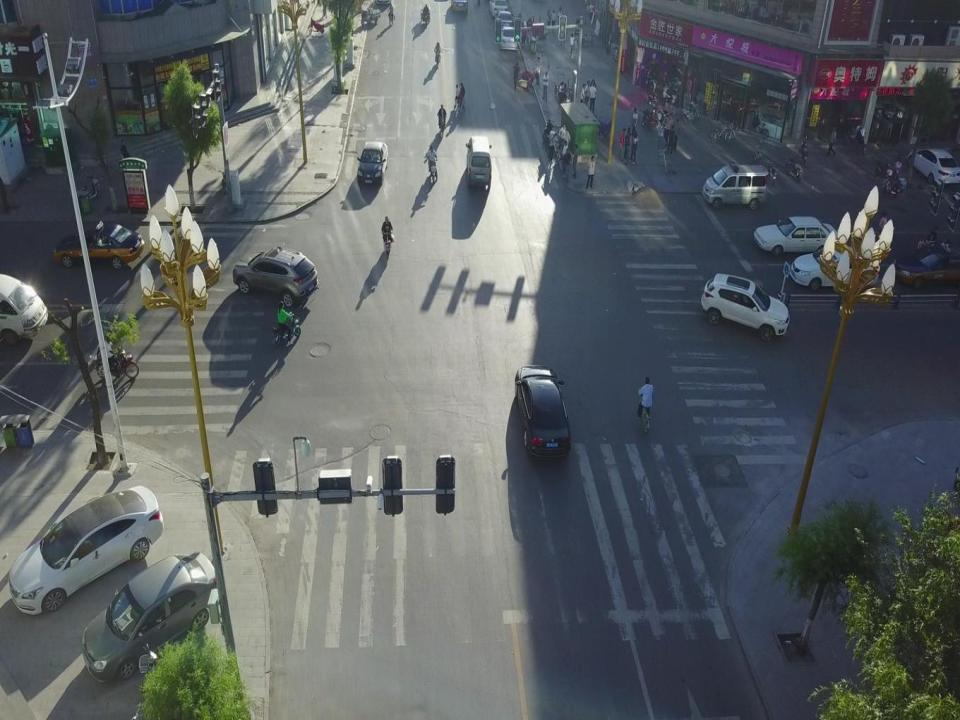car: (8, 485, 163, 616), (82, 550, 215, 682), (702, 273, 790, 342), (514, 363, 571, 461), (232, 246, 318, 305), (53, 220, 145, 269), (792, 248, 880, 290), (753, 216, 838, 256), (891, 247, 960, 289), (908, 146, 960, 187), (356, 141, 388, 185), (500, 25, 518, 52), (495, 10, 513, 28)
van: (0, 273, 48, 347), (702, 161, 769, 208), (466, 136, 492, 189)
